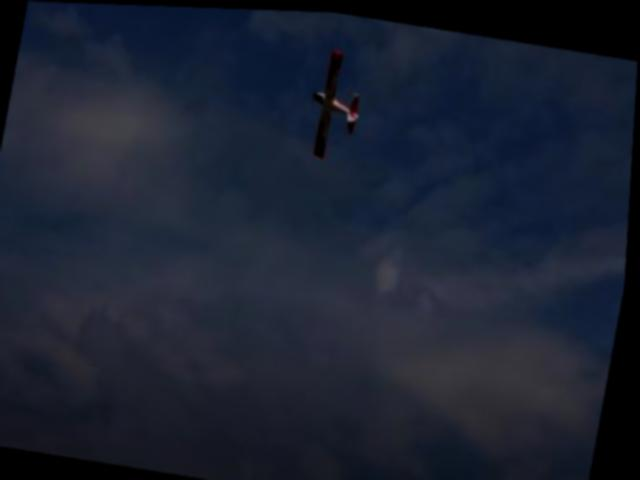uav: (299, 37, 373, 165)
